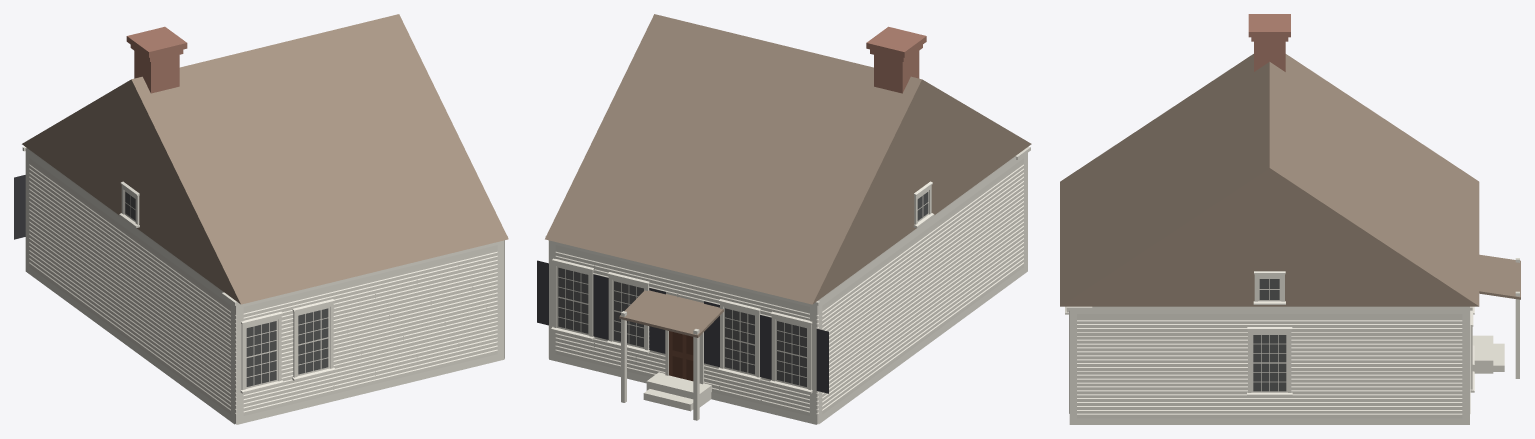
The model's file is recon_1835_blk_washington_lasalle_h1_02__inferred_1835.glb.
3 views of the same model, side by side, from view 1: azimuth 30°, elevation 25°; view 2: azimuth 150°, elevation 25°; view 3: azimuth 270°, elevation 25° (orthographic). The views are drawn at different scales.
Visible parts, largest first — view 1: recon_1835_blk_washington_lasalle_h1_02__inferred_1835; view 2: recon_1835_blk_washington_lasalle_h1_02__inferred_1835; view 3: recon_1835_blk_washington_lasalle_h1_02__inferred_1835.
Boxes of the visible parts, x1=… form: recon_1835_blk_washington_lasalle_h1_02__inferred_1835: x1=14, y1=14, x2=508, y2=424; recon_1835_blk_washington_lasalle_h1_02__inferred_1835: x1=537, y1=14, x2=1031, y2=424; recon_1835_blk_washington_lasalle_h1_02__inferred_1835: x1=1060, y1=14, x2=1520, y2=424.
Size of the model in its own units: 8.53 by 8.44 by 12.22.
